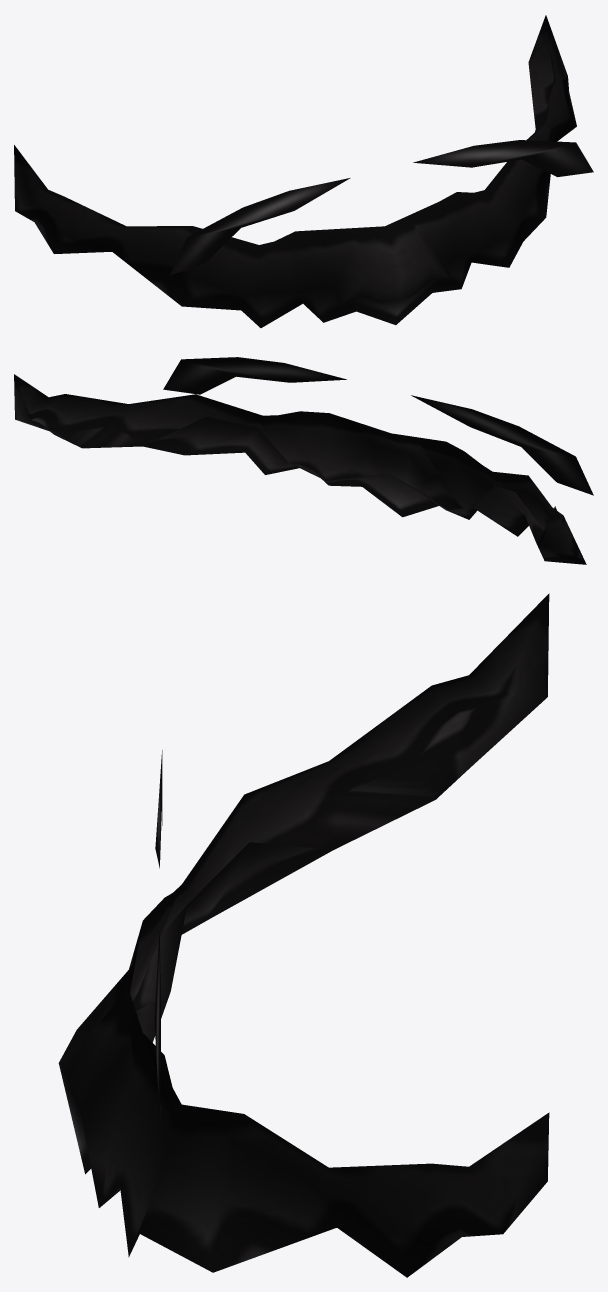
File: m_b_join.FBX
3 renders of one model, top to bottom at view 1: azimuth 30°, elevation 25°; view 2: azimuth 150°, elevation 25°; view 3: azimuth 270°, elevation 25°, orthographic. The views are drawn at different scales.
Visible parts, largest first — view 1: Object02; view 2: Object02; view 3: Object02.
Boxes of the visible parts, <box> form: Object02: <box>14,15,593,327</box>; Object02: <box>14,357,593,564</box>; Object02: <box>58,593,549,1277</box>.
Bounding box in the file's own units: 7.99 × 2.22 × 3.07.
